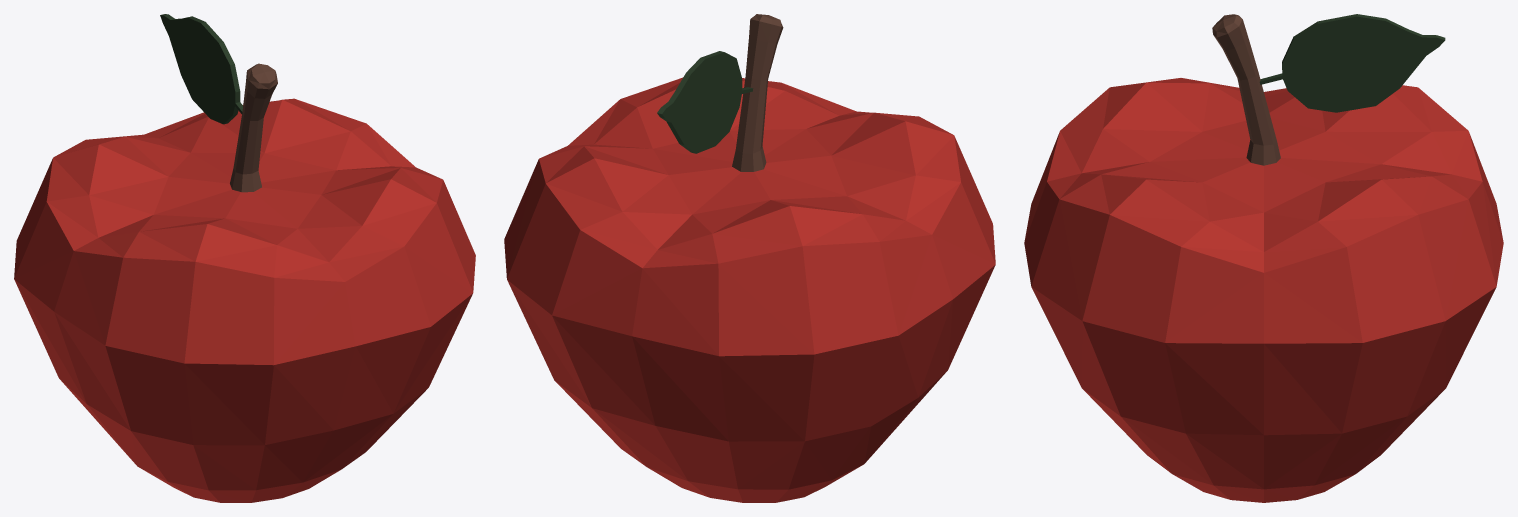
File: produce_apple.glb
The picture shows the model from 3 angles, left to right: view 1: azimuth 30°, elevation 25°; view 2: azimuth 150°, elevation 25°; view 3: azimuth 270°, elevation 25°; orthographic projection. The views are drawn at different scales.
Size of the model in its own units: 0.9377 by 1 by 0.9421.
